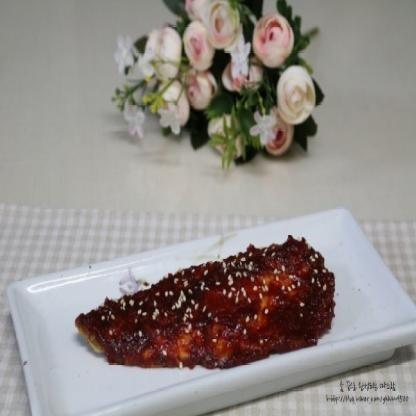Peixe: (70, 219, 350, 380)
